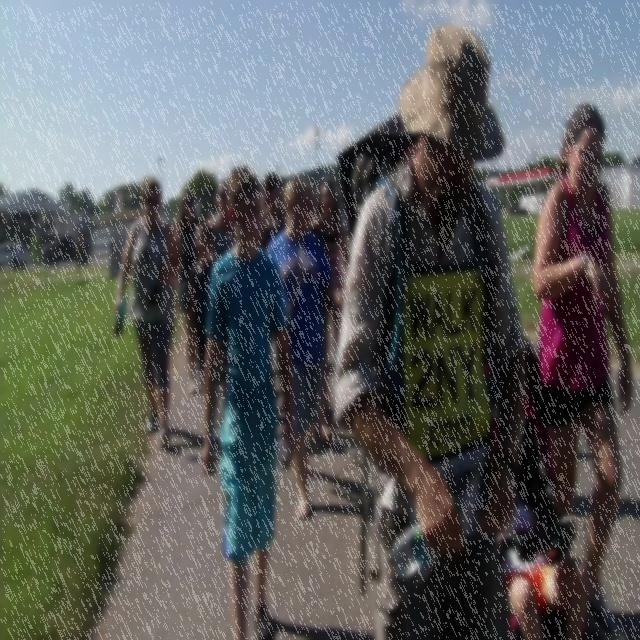pessoa: (334, 25, 528, 639), (530, 100, 636, 640), (202, 165, 296, 639), (266, 175, 332, 520), (480, 450, 590, 640), (111, 170, 182, 450), (509, 326, 559, 552), (309, 176, 351, 428), (303, 180, 337, 450), (172, 186, 205, 398), (187, 220, 215, 394), (256, 169, 290, 254), (208, 178, 236, 260), (305, 178, 327, 256)
